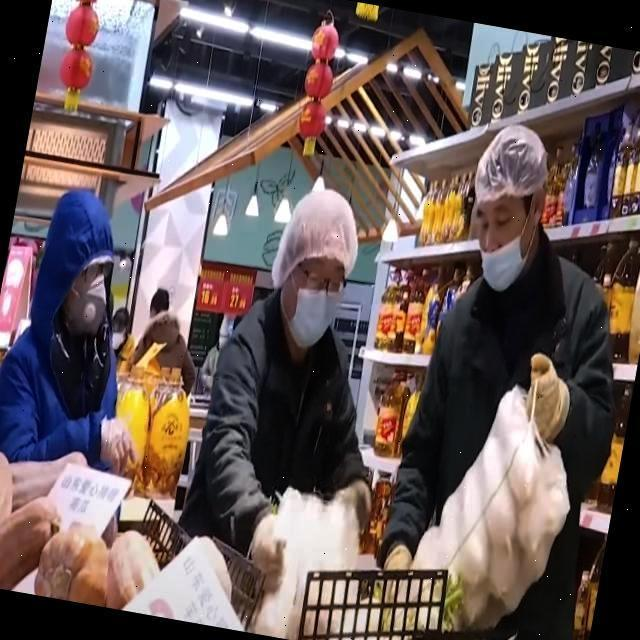apron: (519, 350, 579, 424), (243, 511, 294, 565), (98, 422, 138, 466), (334, 488, 368, 522)
gloves: (464, 124, 544, 203), (63, 186, 121, 270), (294, 188, 359, 250)
hairnet: (472, 219, 526, 293)
mask: (70, 277, 120, 333), (300, 288, 339, 344)
